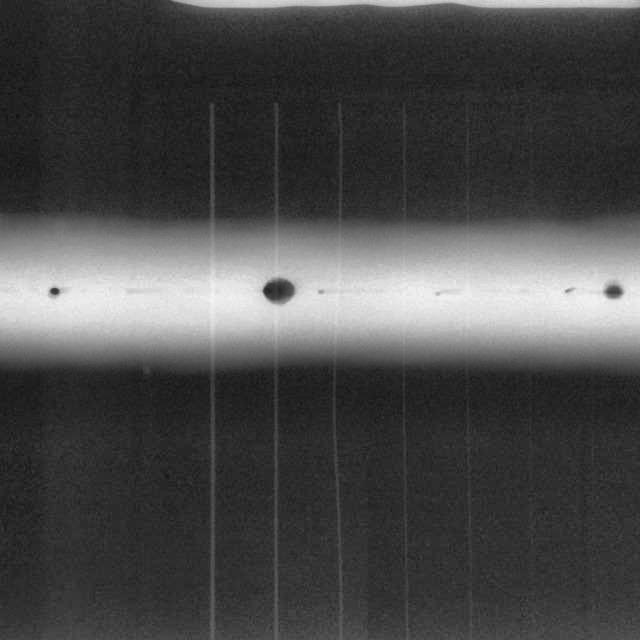LoP-LoF: (6, 278, 640, 314)
Pore: (256, 270, 300, 313), (600, 281, 628, 307), (46, 266, 63, 307)
